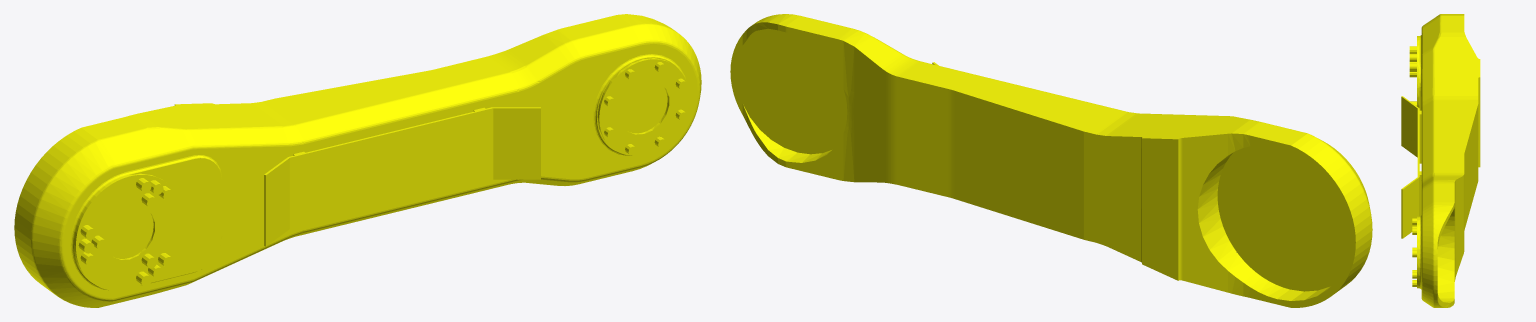
3 views of the same model, side by side, from view 1: azimuth 30°, elevation 25°; view 2: azimuth 150°, elevation 25°; view 3: azimuth 270°, elevation 25° (orthographic). The views are drawn at different scales.
Visible parts, largest first — view 1: node; view 2: node; view 3: node.
Part boxes in pixels (x1,y1,x2,y2): node: [14, 14, 701, 307]; node: [730, 14, 1372, 307]; node: [1401, 14, 1480, 307].
Size of the model in its own units: 996 by 240 by 226.
